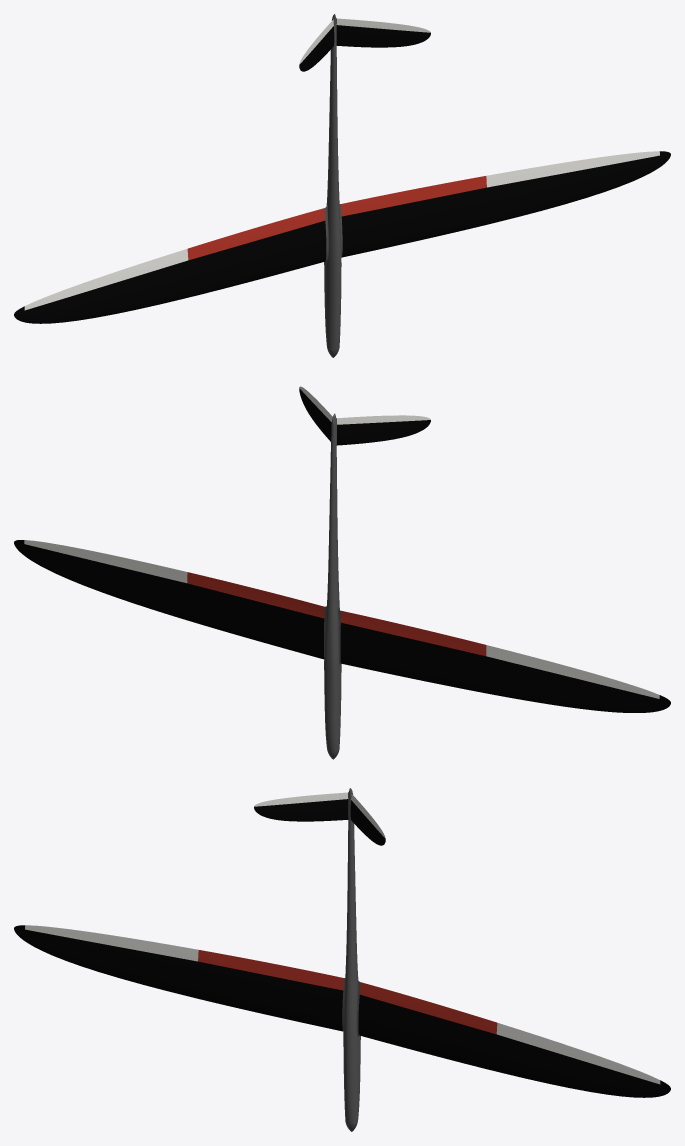
The model's file is Rendersss.obj.
The picture shows the model from 3 angles, top to bottom: view 1: azimuth 30°, elevation 25°; view 2: azimuth 150°, elevation 25°; view 3: azimuth 330°, elevation 25°; orthographic projection.
Visible parts, largest first — view 1: Bryła9, Bryła4, Bryła1, Bryła8, Bryła3, Bryła10, Bryła7, Bryła9:1, Bryła10:1, Bryła2; view 2: Bryła4, Bryła9, Bryła1, Bryła3, Bryła7, Bryła8, Bryła10, Bryła2, Bryła6, Bryła9:1; view 3: Bryła4, Bryła9, Bryła1, Bryła3, Bryła8, Bryła7, Bryła10, Bryła2, Bryła6, Bryła9:1.
Part boxes in pixels (x1,y1,x2,y2): Bryła9: (341, 151, 670, 257); Bryła4: (14, 220, 326, 323); Bryła1: (324, 14, 342, 349); Bryła8: (341, 176, 486, 216); Bryła3: (187, 208, 325, 260); Bryła10: (486, 151, 659, 187); Bryła7: (24, 248, 188, 310); Bryła9:1: (336, 25, 430, 47); Bryła10:1: (336, 18, 430, 32); Bryła2: (299, 26, 334, 71); Bryła4: (340, 622, 670, 712); Bryła9: (14, 540, 324, 659); Bryła1: (324, 413, 341, 751); Bryła3: (341, 610, 486, 656); Bryła7: (486, 645, 659, 698); Bryła8: (187, 572, 324, 618); Bryła10: (24, 540, 187, 583); Bryła2: (337, 420, 430, 445); Bryła6: (337, 415, 430, 424); Bryła9:1: (299, 388, 331, 441); Bryła4: (14, 925, 343, 1031); Bryła9: (358, 994, 670, 1097); Bryła1: (342, 788, 360, 1123); Bryła3: (198, 950, 343, 990); Bryła8: (359, 982, 497, 1034); Bryła7: (25, 925, 198, 961); Bryła10: (496, 1022, 660, 1084); Bryła2: (254, 799, 348, 821); Bryła6: (254, 792, 348, 806); Bryła9:1: (350, 800, 385, 845).
Size of the model in its own units: 302 by 152 by 29.42.
